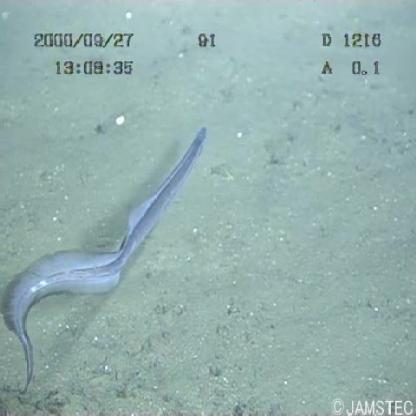Bio: (1, 123, 210, 394)
